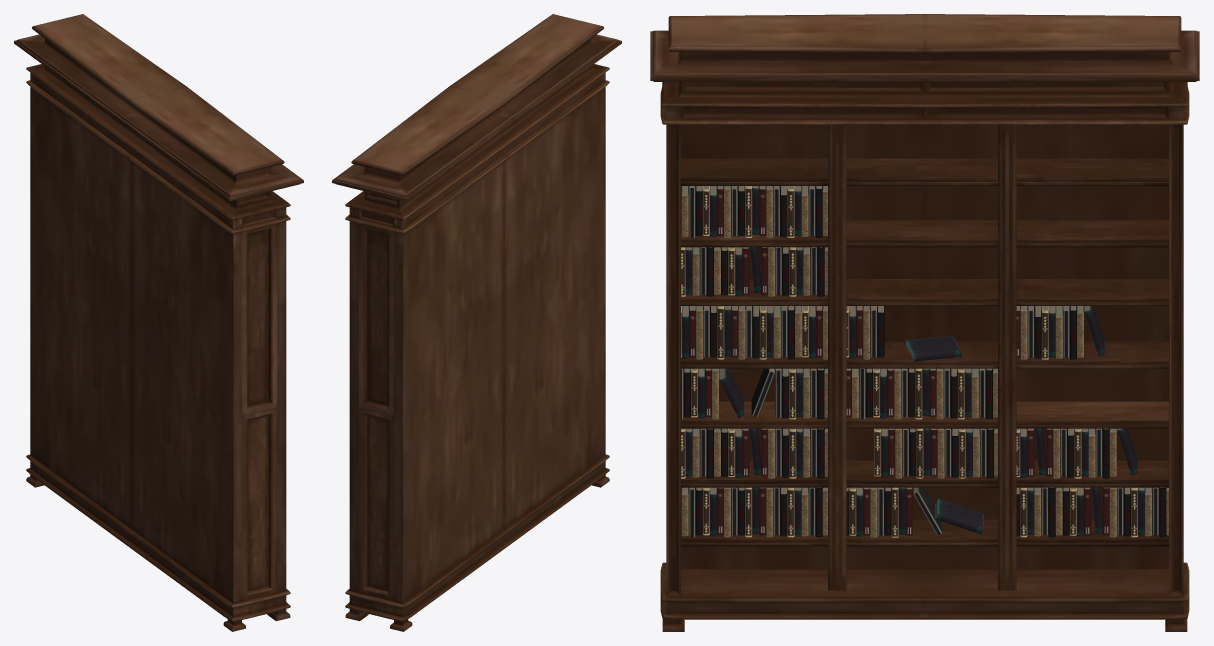
File: tc-dc-shelf.glb
3 views of the same model, side by side, from view 1: azimuth 30°, elevation 25°; view 2: azimuth 150°, elevation 25°; view 3: azimuth 270°, elevation 25° (orthographic). The views are drawn at different scales.
Visible parts, largest first — view 1: shelf; view 2: shelf; view 3: shelf, book.
Part boxes in pixels (x1,y1,x2,y2): shelf: (14,14,303,631); shelf: (332,14,621,631); shelf: (650,14,1199,631); book: (681,186,1168,537).
Bounding box in the file's own units: 0.5692 × 3.29 × 2.81.
Materials: 2 (2 with a texture image).
